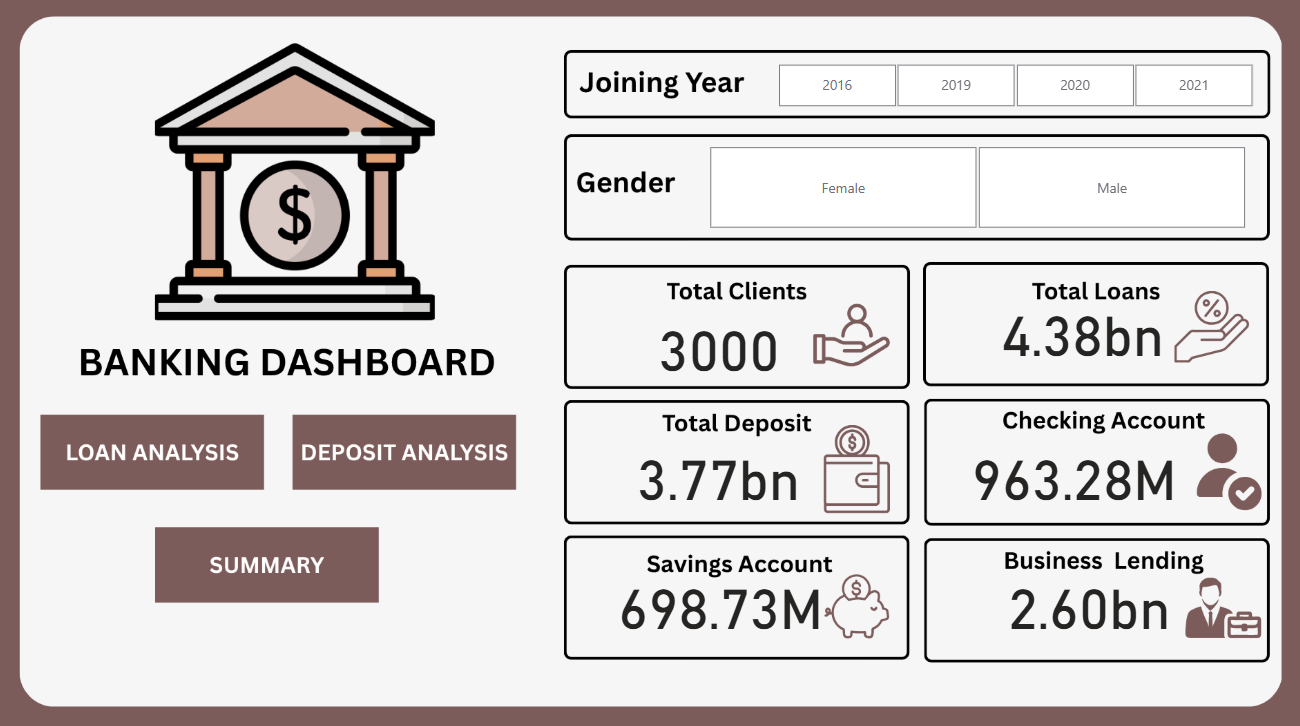

The dashboard page shown, as its layout file describes it:
{"tool":"powerbi","page":{"name":"Home 1","canvas":[1280,720],"ordinal":0},"visuals":[{"type":"card","fields":{"Values":["banking-clients.Name"]},"box":[603.3,306.7,205,68.3],"z":0},{"type":"card","fields":{"Values":["banking-clients.Total Loan"]},"box":[943.3,293.3,226.7,66.7],"z":1000},{"type":"card","fields":{"Values":["banking-clients.Total Deposit"]},"box":[591.7,433.3,228.3,65],"z":2000},{"type":"card","fields":{"Values":["banking-clients.Checking Accounts"]},"box":[926.7,433.3,243.3,65],"z":3000},{"type":"card","fields":{"Values":["banking-clients.Saving Accounts"]},"box":[588.3,558.3,236.7,63.3],"z":4000},{"type":"card","fields":{"Values":["banking-clients.Business Lending"]},"box":[955,558.3,215,63.3],"z":5000},{"type":"slicer","fields":{"Values":["banking-clients.GenderId"]},"box":[671,144.1,566.7,91.9],"z":6000},{"type":"slicer","fields":{"Values":["banking-clients.Joined Bank.Variation.Date Hierarchy.Year"]},"box":[737.3,63.9,507.2,54.2],"z":7000},{"type":"actionButton","box":[49.4,413,216.8,74.1],"z":8000},{"type":"actionButton","box":[157.8,517.3,216.8,74.1],"z":9000},{"type":"actionButton","box":[292.3,413,216.8,74.1],"z":10000}]}

Visuals, with their boxes in screenshot pixels (x1, y1, x2, y2), scaled from the page's 1280x720 canvas onto the 1300x726 screenshot:
card - banking-clients.Name: [x1=613, y1=309, x2=821, y2=378]
card - banking-clients.Total Loan: [x1=958, y1=296, x2=1188, y2=363]
card - banking-clients.Total Deposit: [x1=601, y1=437, x2=833, y2=502]
card - banking-clients.Checking Accounts: [x1=941, y1=437, x2=1188, y2=502]
card - banking-clients.Saving Accounts: [x1=597, y1=563, x2=838, y2=627]
card - banking-clients.Business Lending: [x1=970, y1=563, x2=1188, y2=627]
slicer - banking-clients.GenderId: [x1=681, y1=145, x2=1257, y2=238]
slicer - banking-clients.Joined Bank.Variation.Date Hierarchy.Year: [x1=749, y1=64, x2=1264, y2=119]
actionButton: [x1=50, y1=416, x2=270, y2=491]
actionButton: [x1=160, y1=522, x2=380, y2=596]
actionButton: [x1=297, y1=416, x2=517, y2=491]
